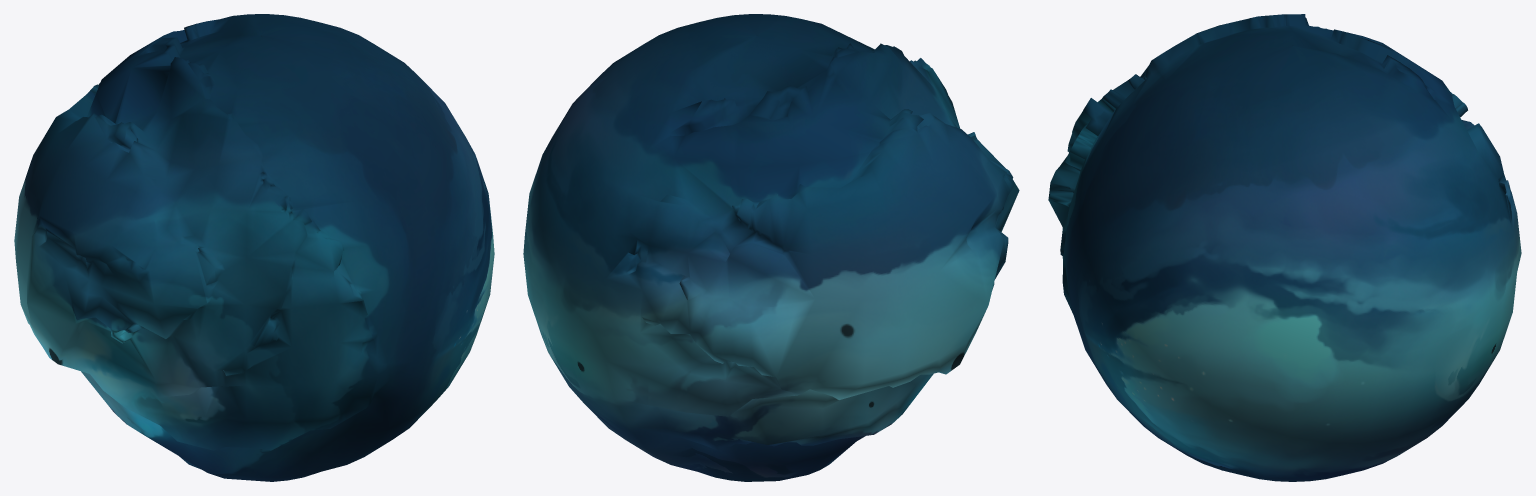
Rendered from background.gltf.
3 views of the same model, side by side, from view 1: azimuth 30°, elevation 25°; view 2: azimuth 150°, elevation 25°; view 3: azimuth 270°, elevation 25° (orthographic). The views are drawn at different scales.
Parts seen in each view (by area): view 1: Object001; view 2: Object001; view 3: Object001.
Boxes of the visible parts, left/top/right/bottom form: Object001: left=14, top=14, right=494, bottom=481; Object001: left=523, top=14, right=1019, bottom=481; Object001: left=1048, top=14, right=1521, bottom=481.
Bounding box in the file's own units: 21.51 × 20.18 × 20.68.
